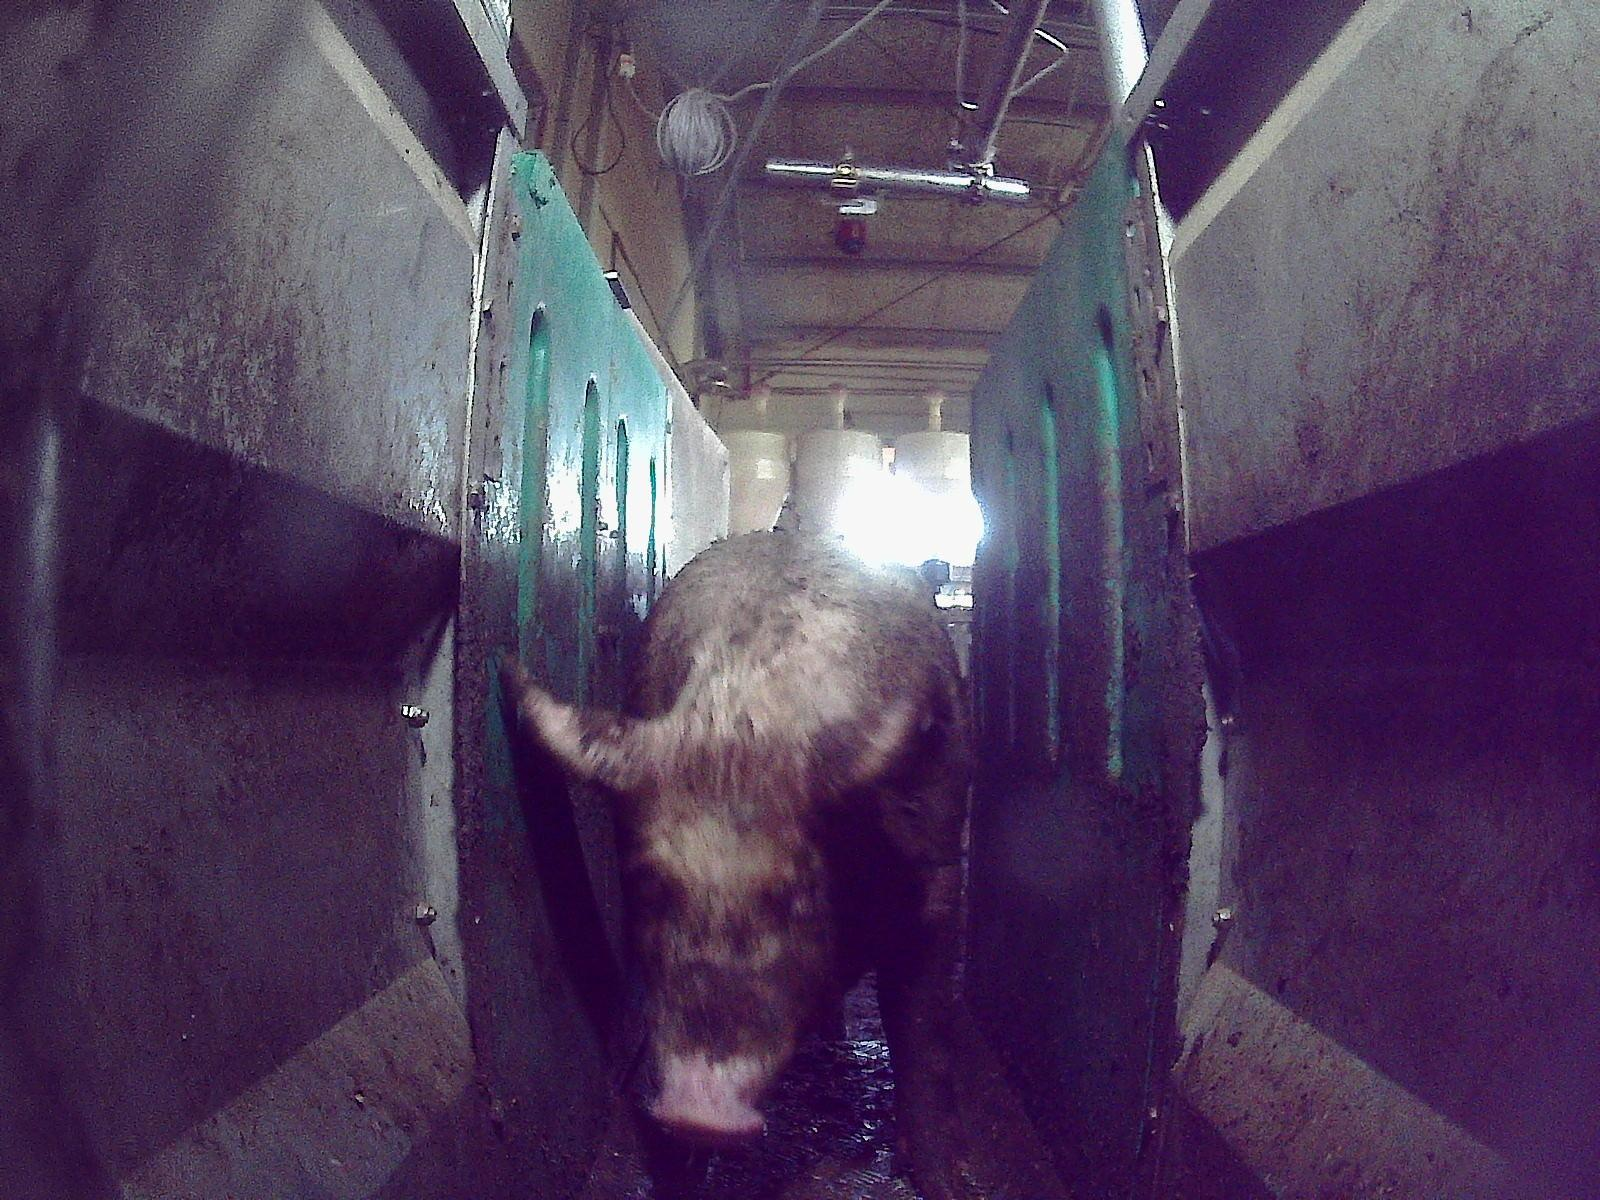Face: (605, 740, 846, 1145)
